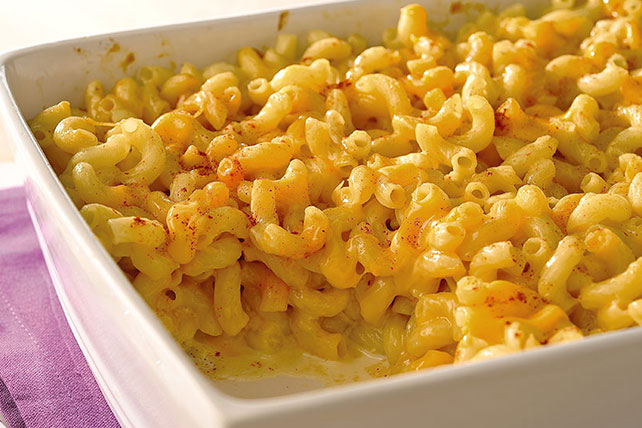macncheese: (21, 17, 633, 416)
